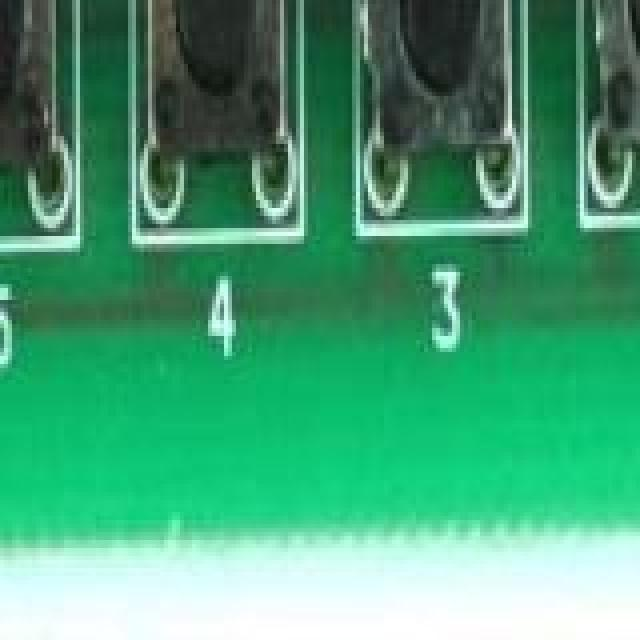switch: (352, 0, 524, 252), (140, 0, 288, 212), (0, 0, 64, 204), (588, 0, 640, 180)
